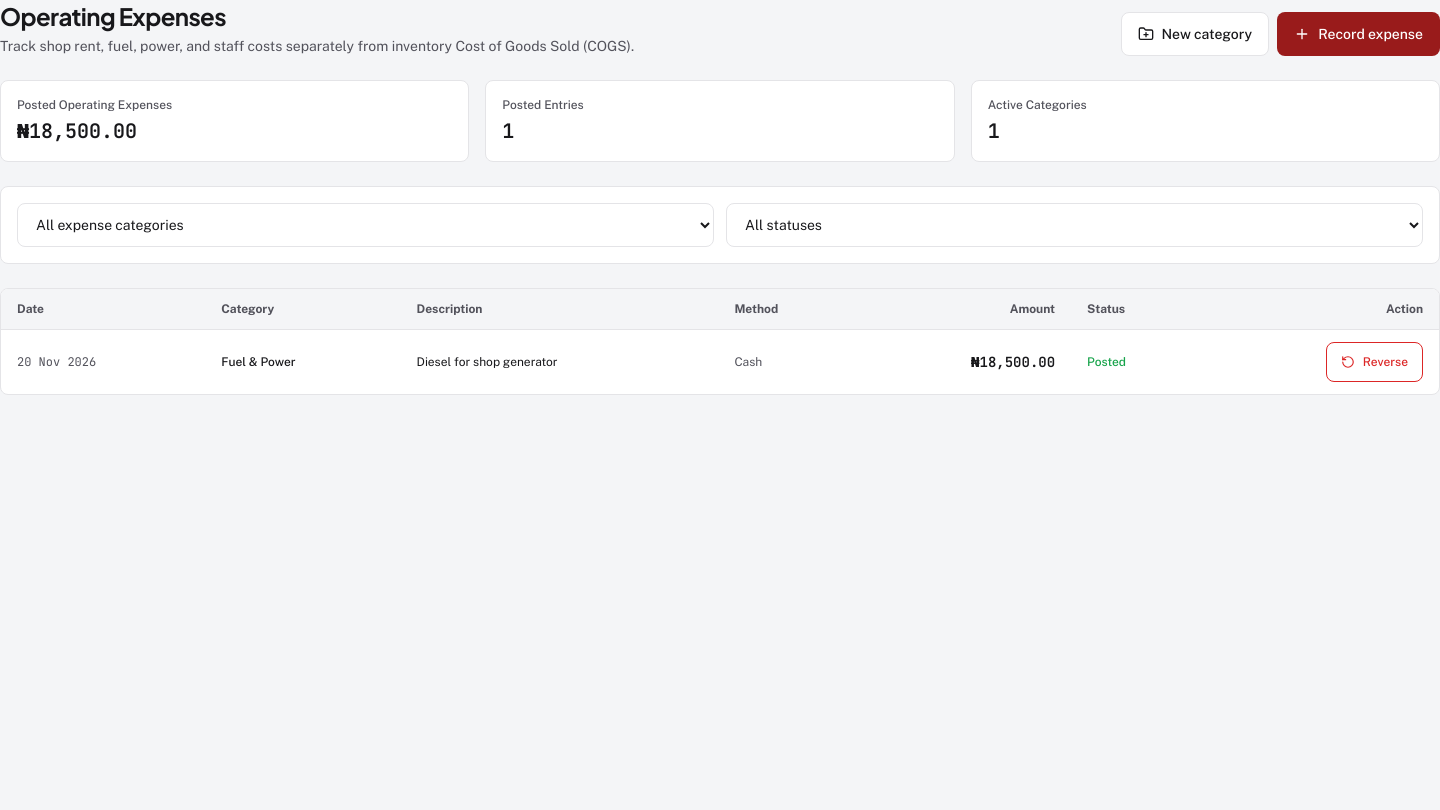
Test: Complete Frontend Operational Modules › ExpensesPage lists operating expenses and records a new expense
The width and height of the screenshot is (1440, 810).
Expected: the text "Diesel for shop generator" is shown, [417,355,558,369]
Click the button "Record expense" at (1359, 34), box [1277,12,1439,56]
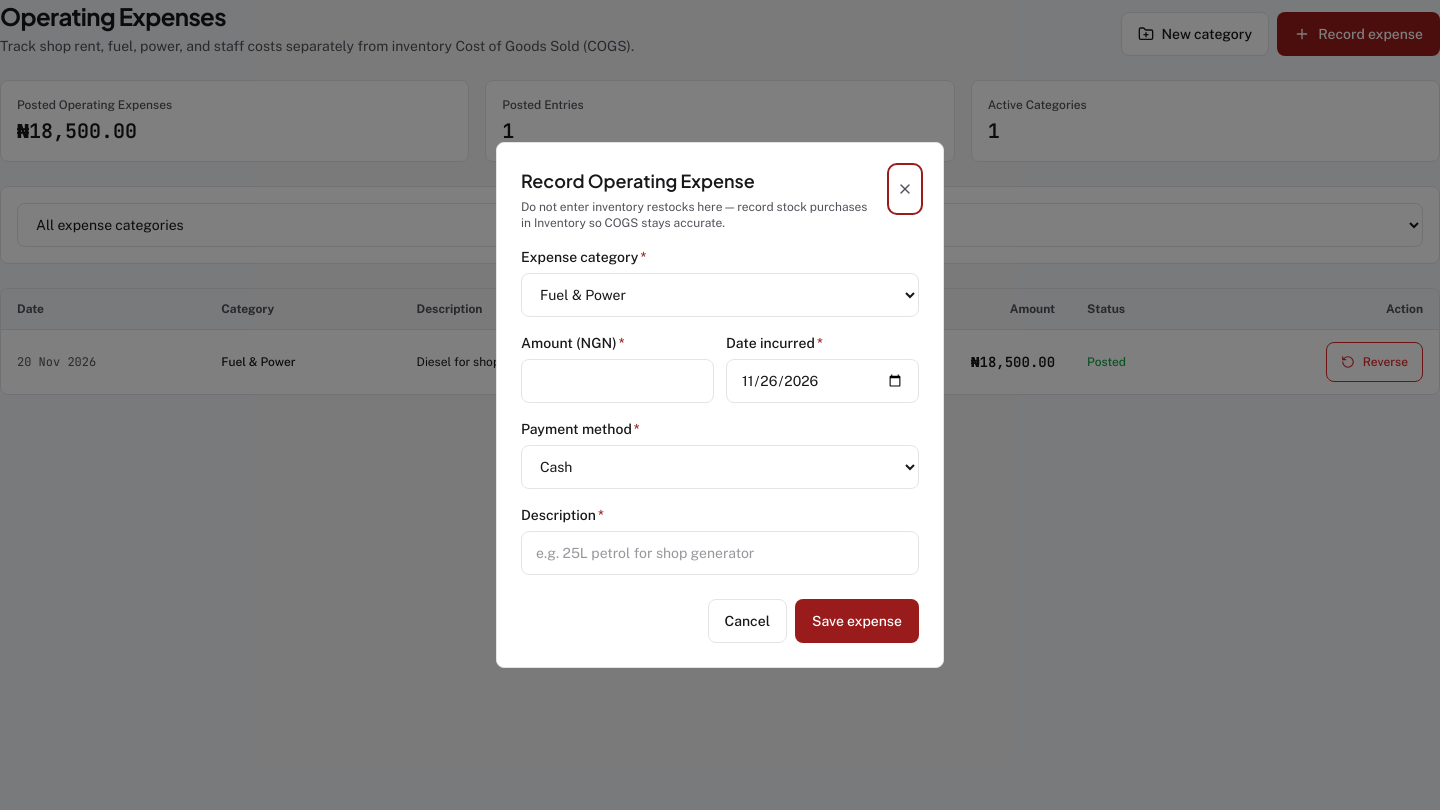
Type "5000" into the number field labelled "Amount (NGN)" at (618, 381), box [521,359,714,403]
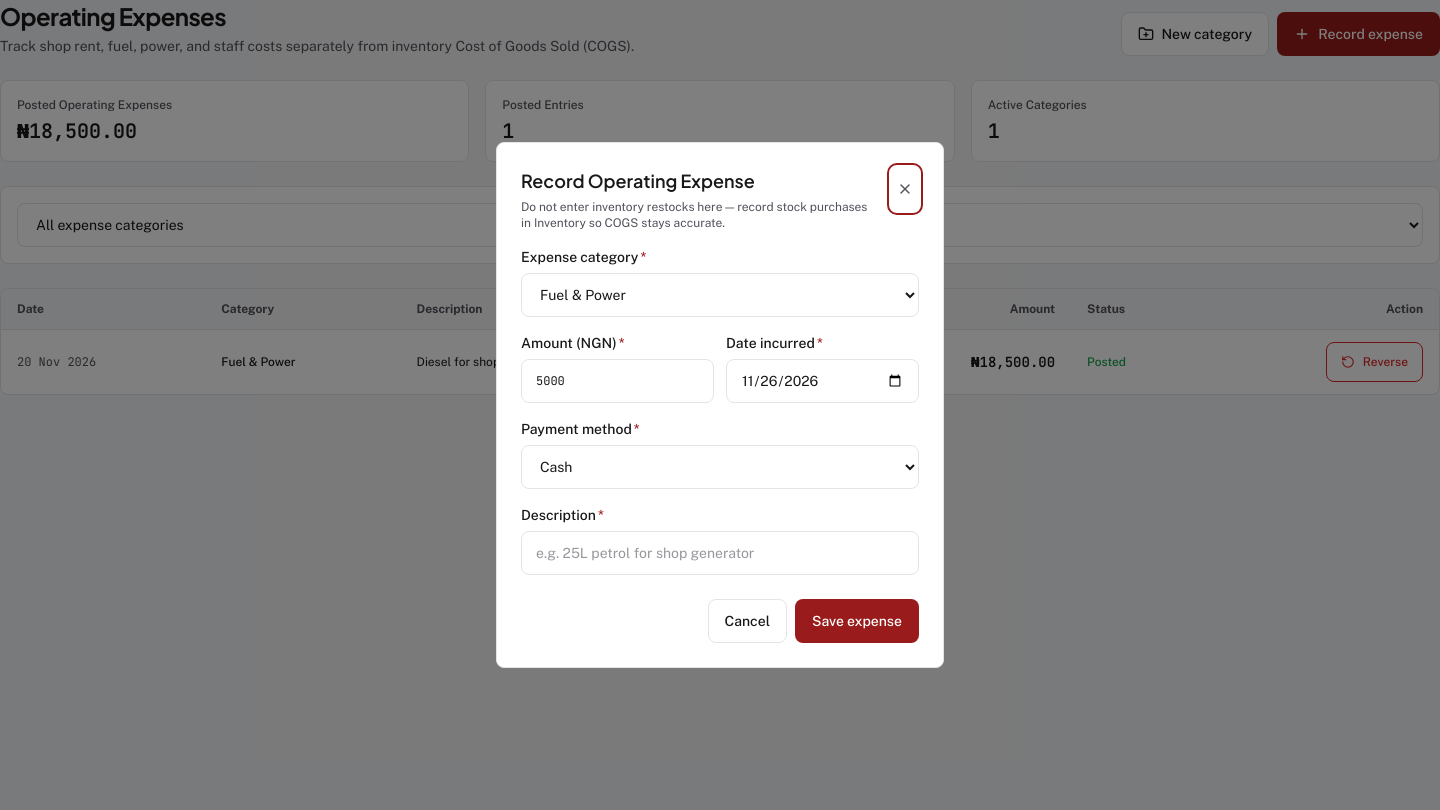
Type "NEPA meter recharge" into the field labelled "Description" at (720, 553), box [521,531,919,575]
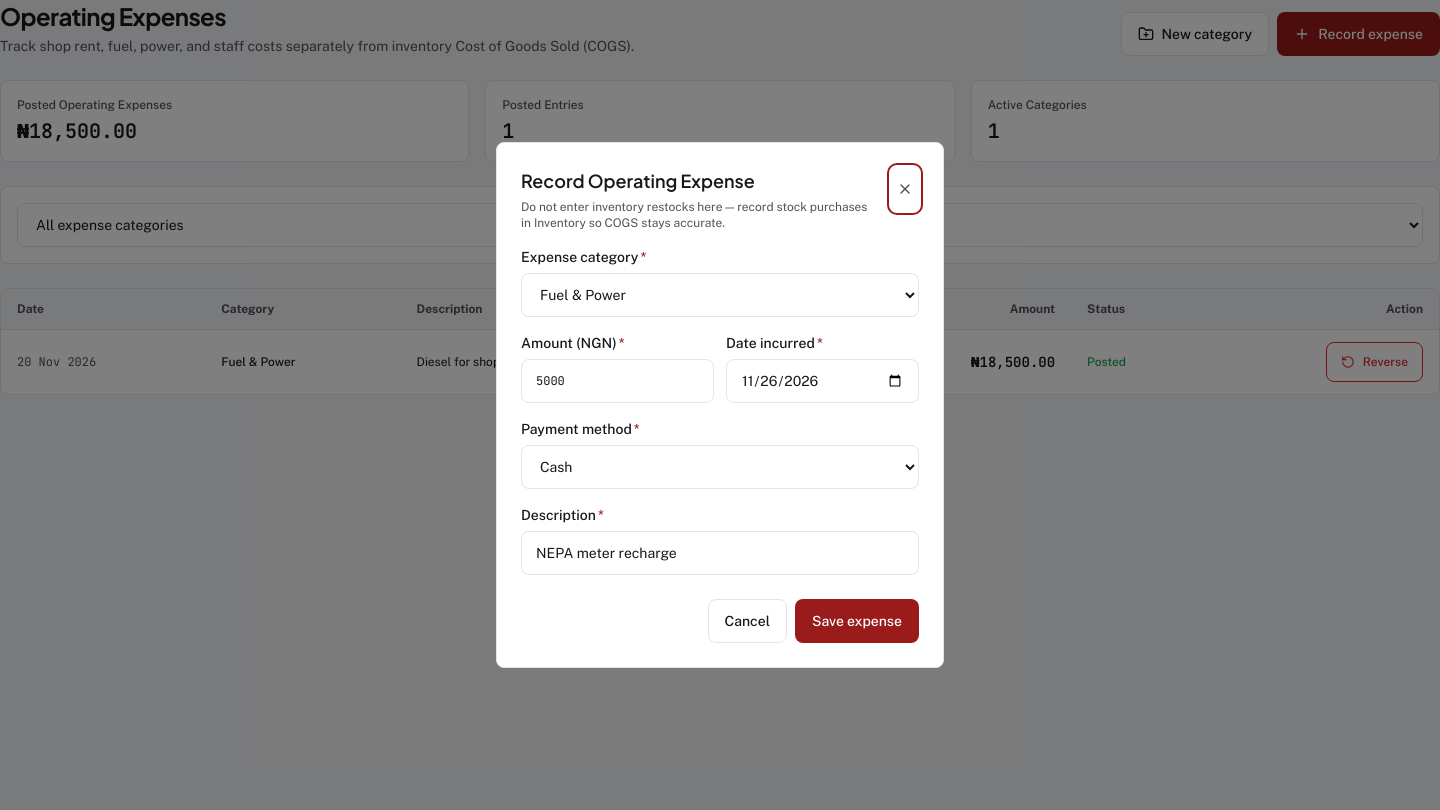
Click the button "Save expense" at (857, 621), box [795,599,919,643]
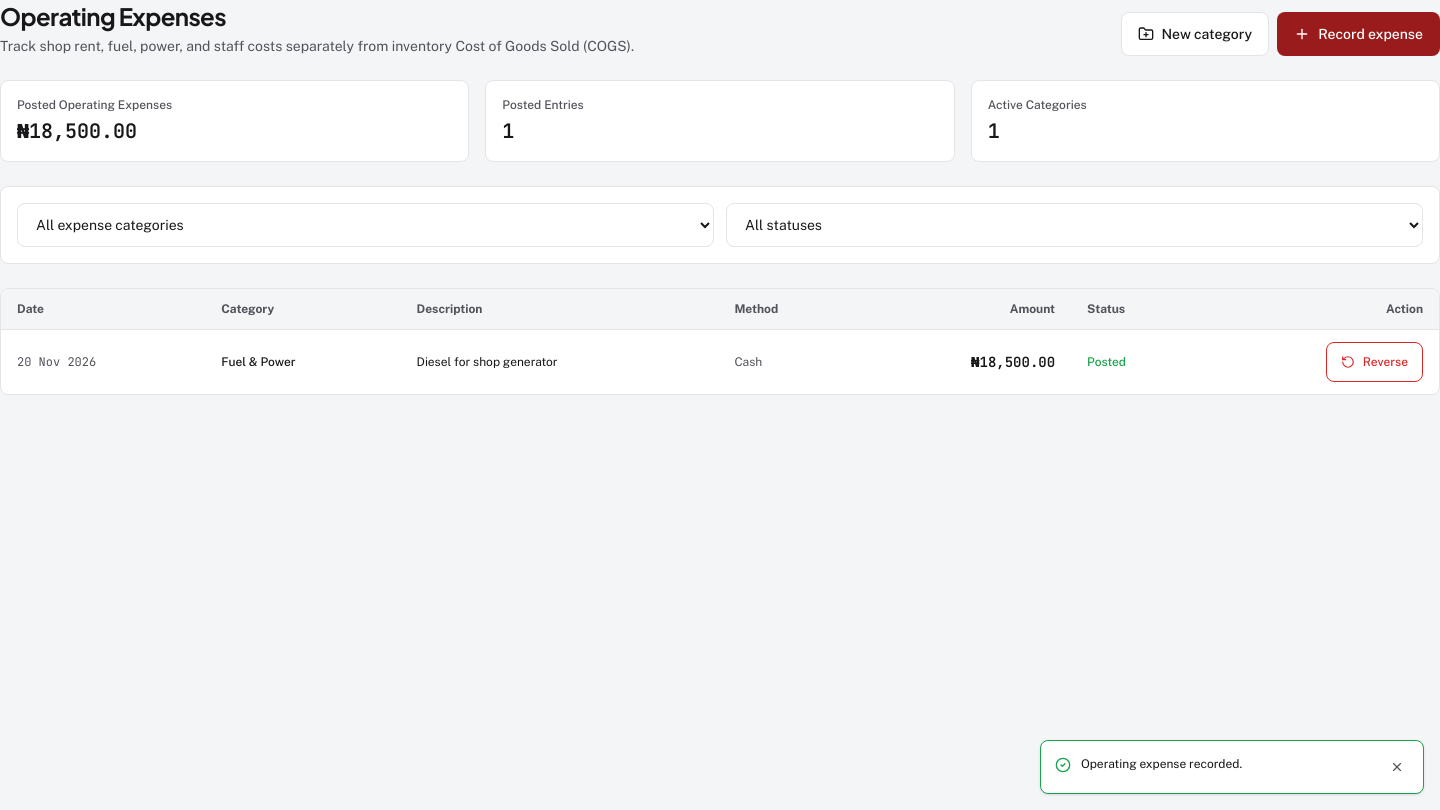
Now the text "Operating expense recorded." is shown, box [1081,757,1242,771]
